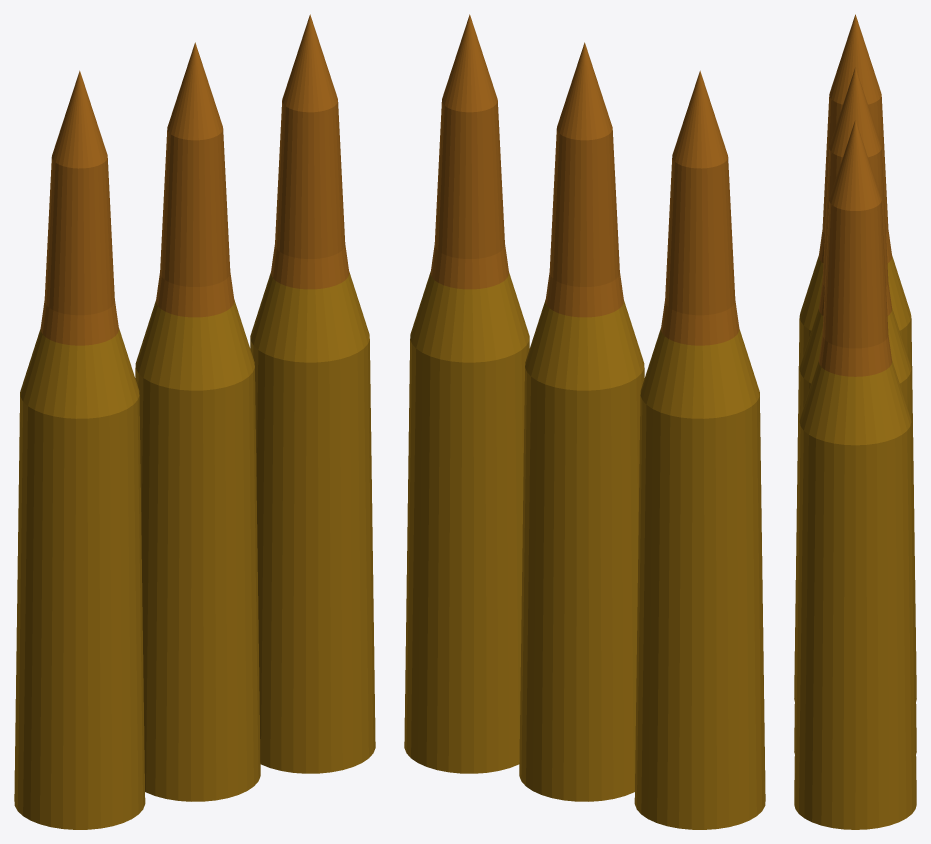
The model's file is bulletforshiba.fbx.
3 views of the same model, side by side, from view 1: azimuth 30°, elevation 25°; view 2: azimuth 150°, elevation 25°; view 3: azimuth 270°, elevation 25° (orthographic). The views are drawn at different scales.
Parts seen in each view (by area): view 1: Cylinder.001; view 2: Cylinder.001; view 3: Cylinder.001.
Boxes of the visible parts, <box> form: Cylinder.001: <box>14,14,375,829</box>; Cylinder.001: <box>404,14,765,829</box>; Cylinder.001: <box>794,14,916,829</box>.
Size of the model in its own units: 3.58 by 7.28 by 1.18.
